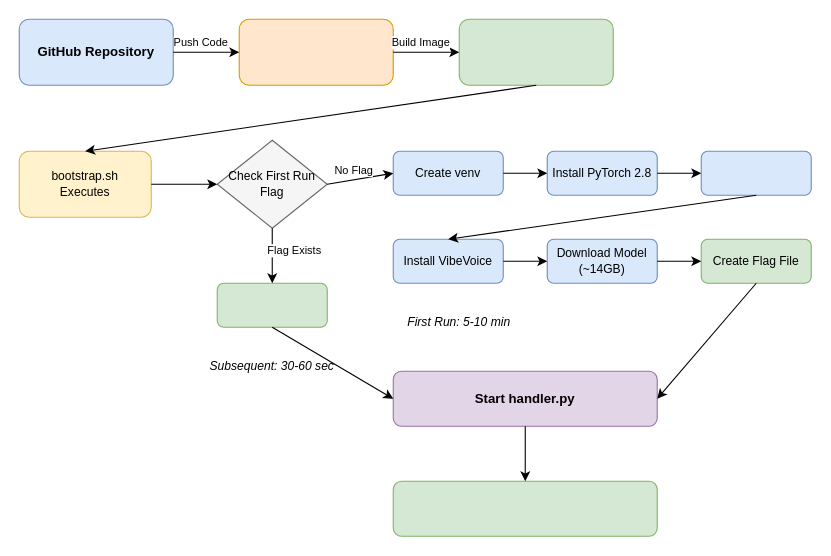
The diagram is 831 pixels wide and 556 high, and some of its shapes have lost their labels. Each missing label, with the centre of its shape:
"Activate Existing venv" goes at (x=271, y=304).
"Clone VibeVoice" goes at (x=755, y=172).
"Container Start" goes at (x=535, y=51).
"Ready for Requests" goes at (x=524, y=508).
"RunPod Build" goes at (x=315, y=51).
